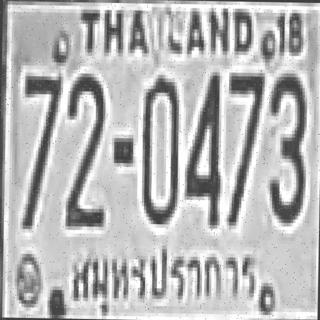N00: (140, 72, 178, 222)
N02: (64, 70, 105, 220), (64, 72, 105, 207)
N03: (267, 70, 305, 220)
N04: (184, 66, 220, 223)
N07: (20, 72, 61, 226), (226, 69, 264, 222), (20, 72, 61, 204), (21, 72, 61, 172)
P57: (62, 246, 268, 318)
